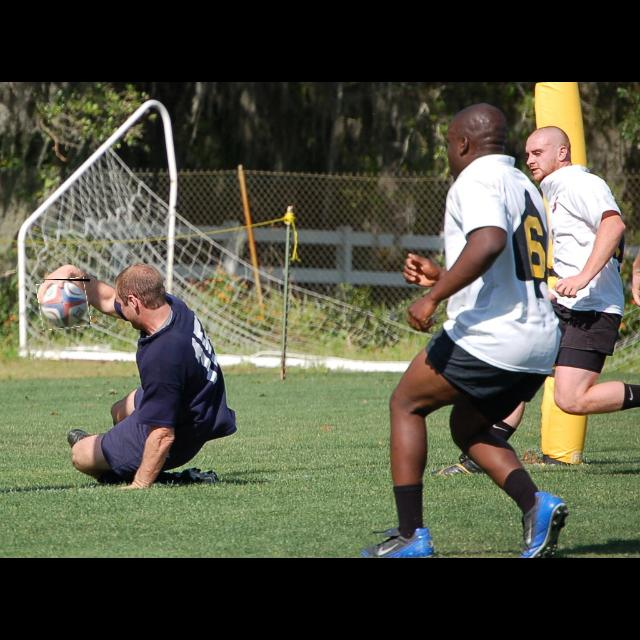Football: (38, 279, 90, 329)
